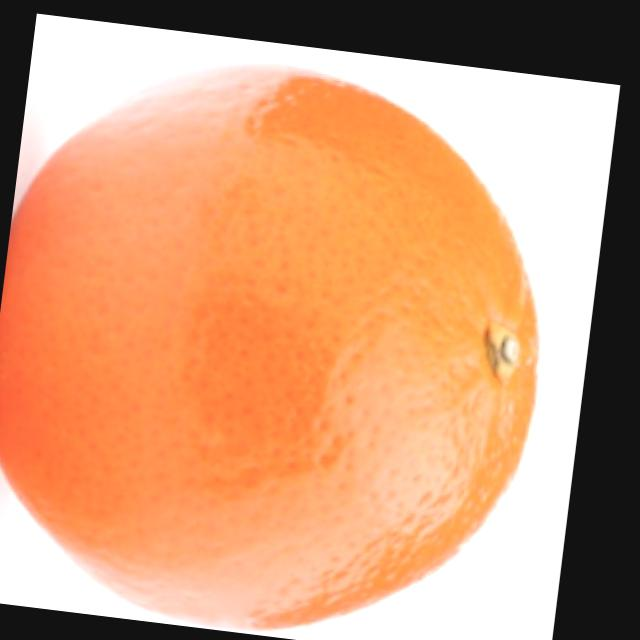orange: (0, 34, 583, 640)
